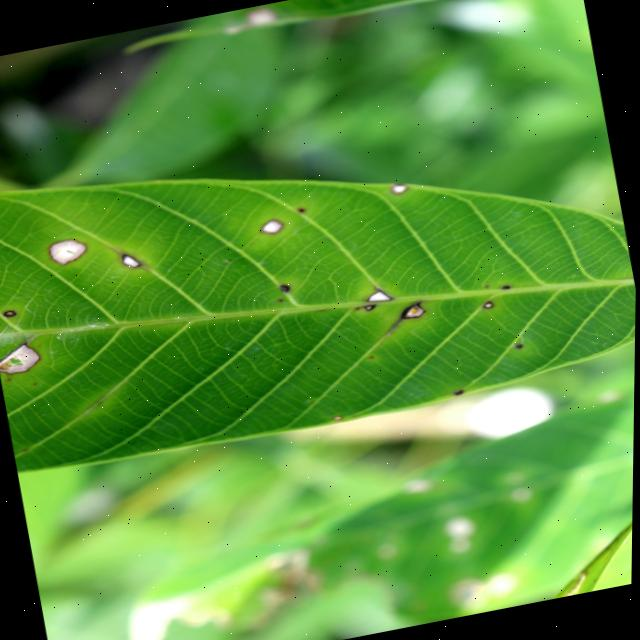Colletotrichum: (0, 340, 44, 377), (46, 236, 90, 269), (364, 288, 393, 305), (260, 218, 286, 236), (400, 303, 426, 321), (121, 252, 142, 271), (482, 300, 495, 310), (3, 310, 17, 319), (362, 304, 377, 312), (280, 284, 292, 294)
